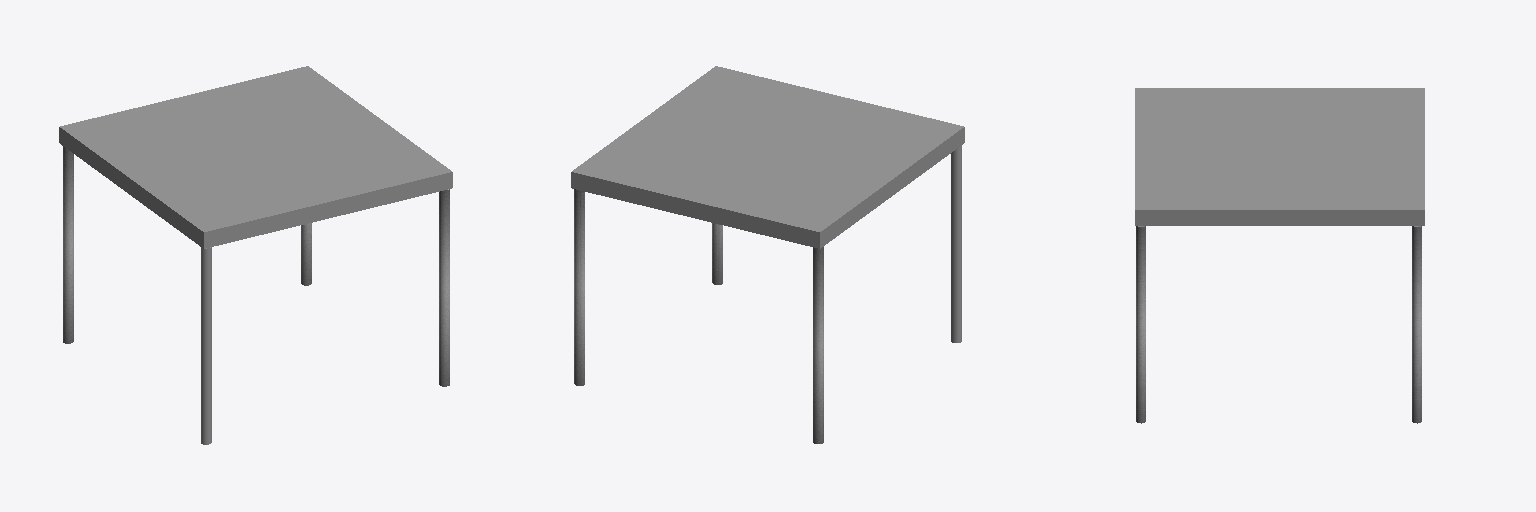
The picture shows the model from 3 angles: view 1: azimuth 30°, elevation 25°; view 2: azimuth 150°, elevation 25°; view 3: azimuth 270°, elevation 25°; orthographic projection.
Visible parts, largest first — view 1: Cube.003, Cylinder, Cylinder.002, Cylinder.001, Cylinder.003; view 2: Cube.003, Cylinder.001, Cylinder.003, Cylinder, Cylinder.002; view 3: Cube.003, Cylinder.003, Cylinder.002.
Part boxes in pixels (left/top/right/bottom): Cube.003: left=59, top=66, right=452, bottom=248; Cylinder: left=201, top=247, right=211, bottom=444; Cylinder.002: left=439, top=189, right=449, bottom=386; Cylinder.001: left=63, top=146, right=73, bottom=343; Cylinder.003: left=301, top=223, right=311, bottom=285; Cube.003: left=571, top=66, right=964, bottom=248; Cylinder.001: left=813, top=247, right=823, bottom=443; Cylinder.003: left=574, top=189, right=584, bottom=385; Cylinder: left=951, top=146, right=961, bottom=342; Cylinder.002: left=712, top=223, right=722, bottom=284; Cube.003: left=1135, top=88, right=1424, bottom=225; Cylinder.003: left=1412, top=226, right=1421, bottom=423; Cylinder.002: left=1136, top=226, right=1145, bottom=423.
Bounding box in the file's own units: 1.19 × 0.9773 × 1.2.
Materials: 2 (1 with a texture image).